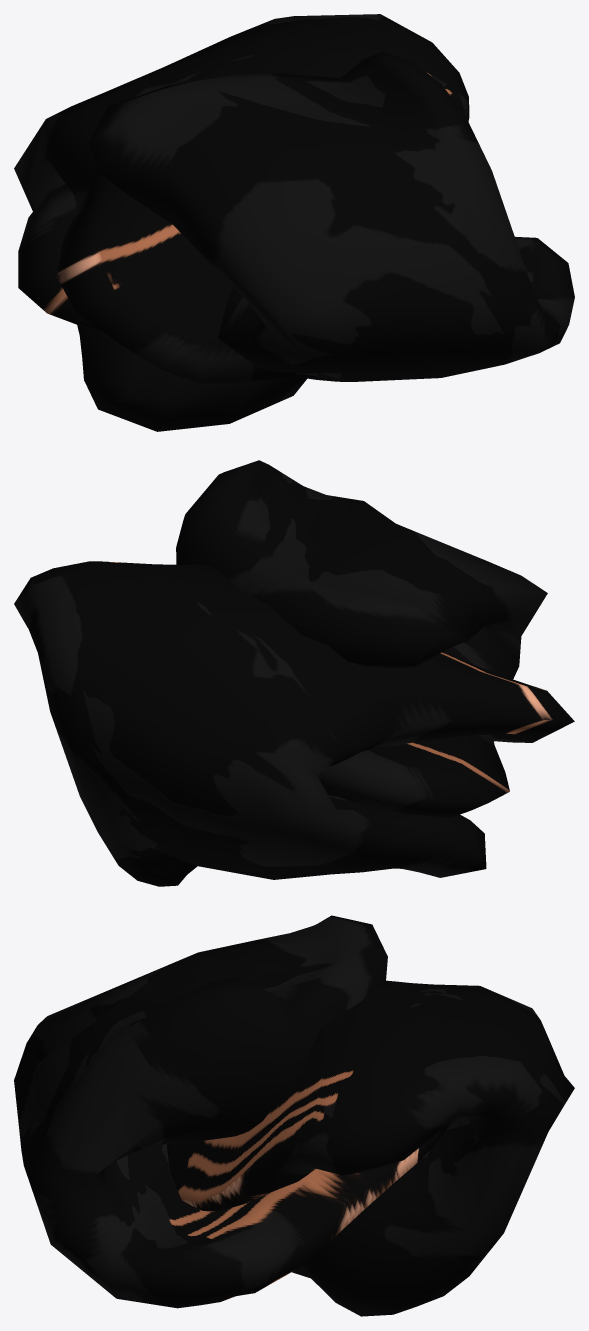
File: socks.fbx
The picture shows the model from 3 angles, top to bottom: view 1: azimuth 30°, elevation 25°; view 2: azimuth 150°, elevation 25°; view 3: azimuth 270°, elevation 25°; orthographic projection. The views are drawn at different scales.
Visible parts, largest first — view 1: balled_sock; view 2: balled_sock; view 3: balled_sock.
Part boxes in pixels (x1,y1,x2,y2): balled_sock: [14, 14, 574, 431]; balled_sock: [14, 460, 574, 886]; balled_sock: [14, 915, 574, 1316].
Size of the model in its own units: 1.49 by 1.02 by 1.54.
Materials: 1 (1 with a texture image).
